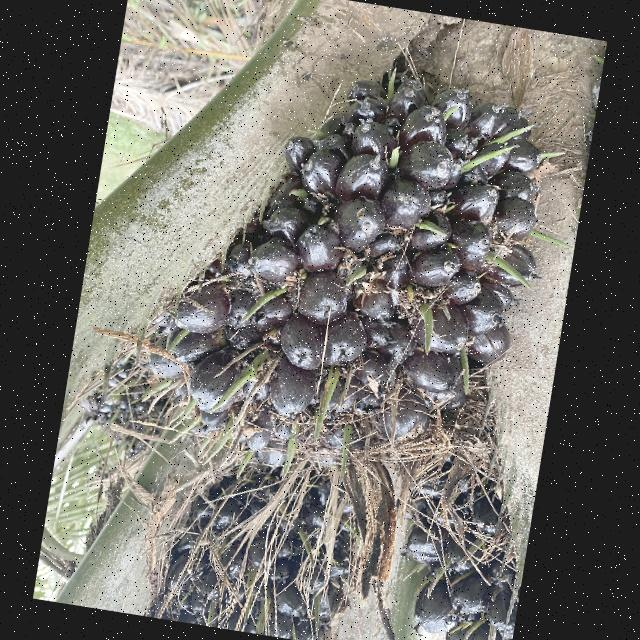Unripe: (151, 75, 547, 470), (165, 455, 360, 640), (404, 469, 521, 640)
